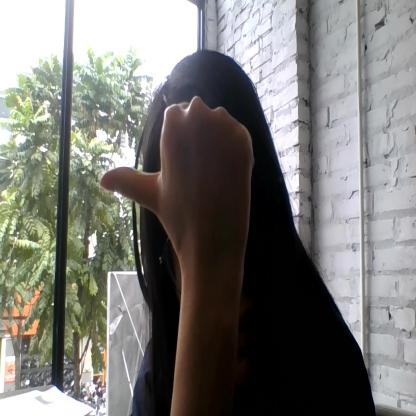right: (101, 88, 255, 255)
